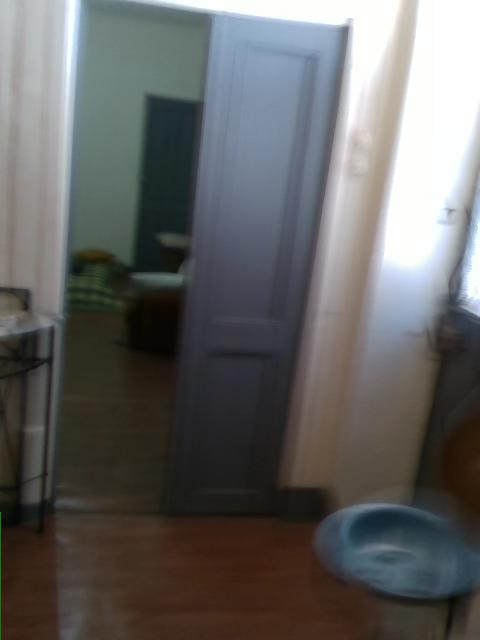door: (165, 11, 349, 493)
